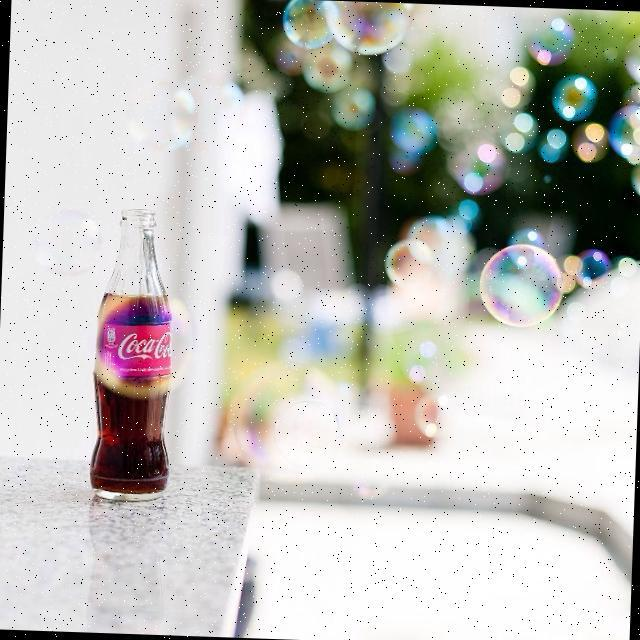coca-cola: (87, 203, 179, 504)
